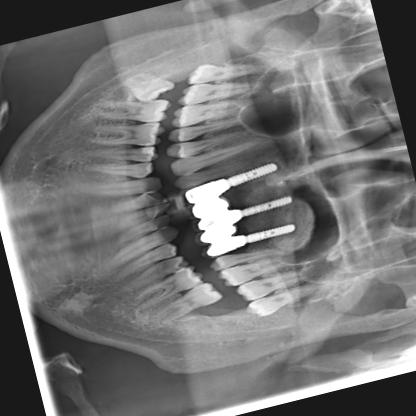ITI: (221, 158, 283, 190), (237, 192, 300, 220), (245, 221, 300, 245)
